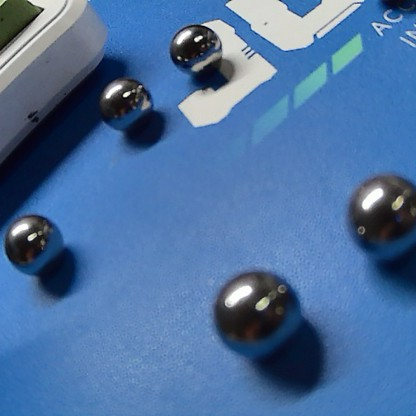ironball: (193, 263, 328, 371), (340, 157, 414, 263), (2, 200, 72, 282), (160, 20, 221, 79), (94, 76, 154, 132)
